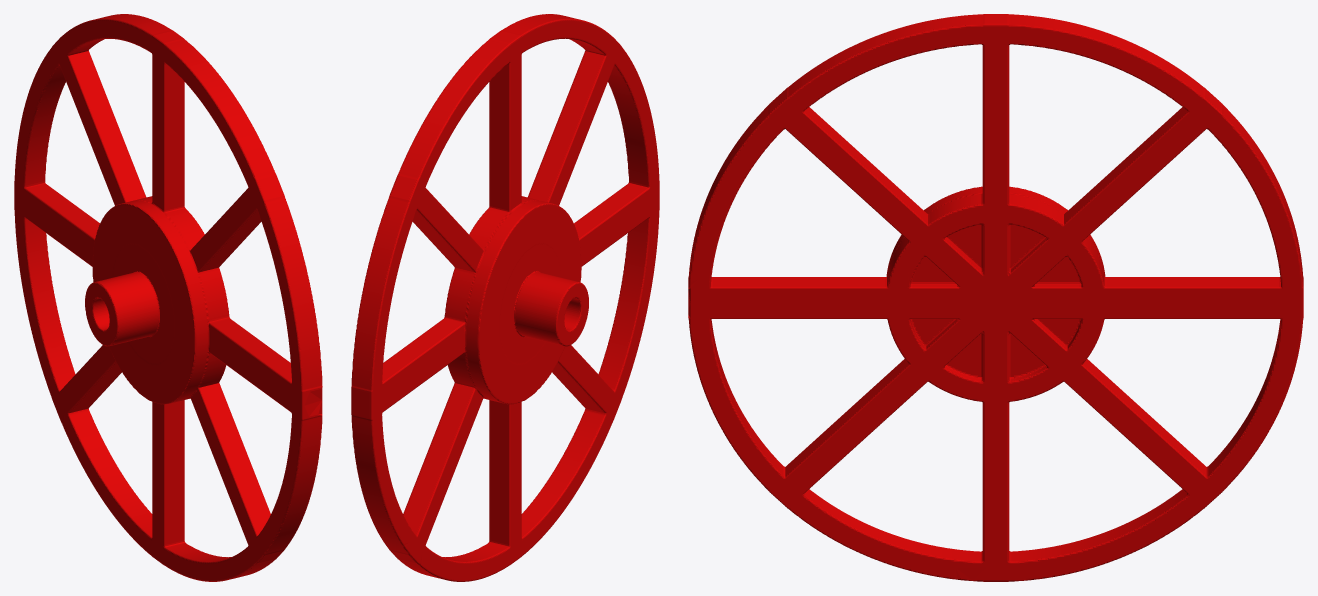
Rendered from PipeHandle1.fbx.
3 renders of one model, left to right at view 1: azimuth 30°, elevation 25°; view 2: azimuth 150°, elevation 25°; view 3: azimuth 270°, elevation 25°, orthographic. The views are drawn at different scales.
Parts seen in each view (by area): view 1: PipeHandle1; view 2: PipeHandle1; view 3: PipeHandle1.
Boxes of the visible parts, <box> form: PipeHandle1: <box>14,14,322,581</box>; PipeHandle1: <box>351,14,659,581</box>; PipeHandle1: <box>688,14,1303,581</box>.
Size of the model in its own units: 31.28 by 199 by 199.
